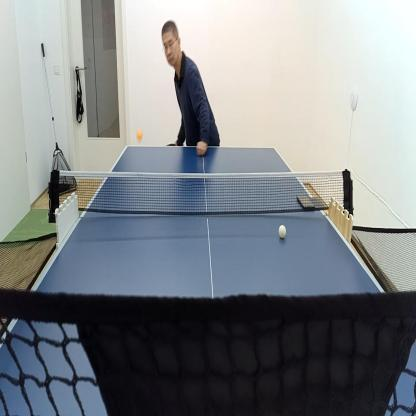Ball: (278, 223, 287, 240), (136, 128, 144, 143)
